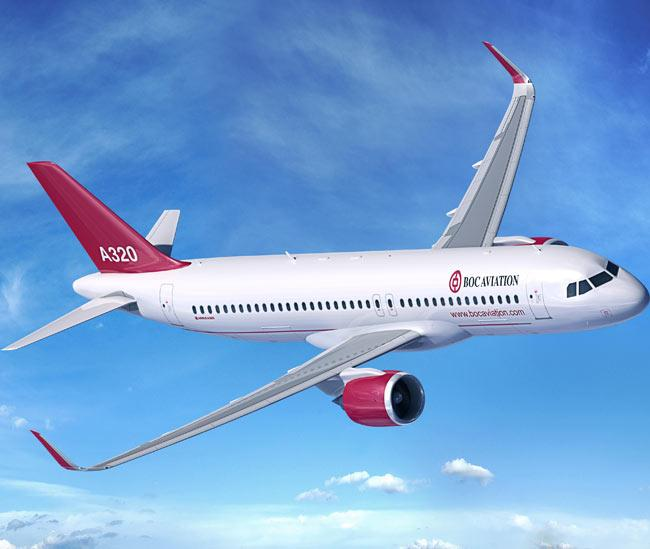airplane: (24, 39, 650, 470)
